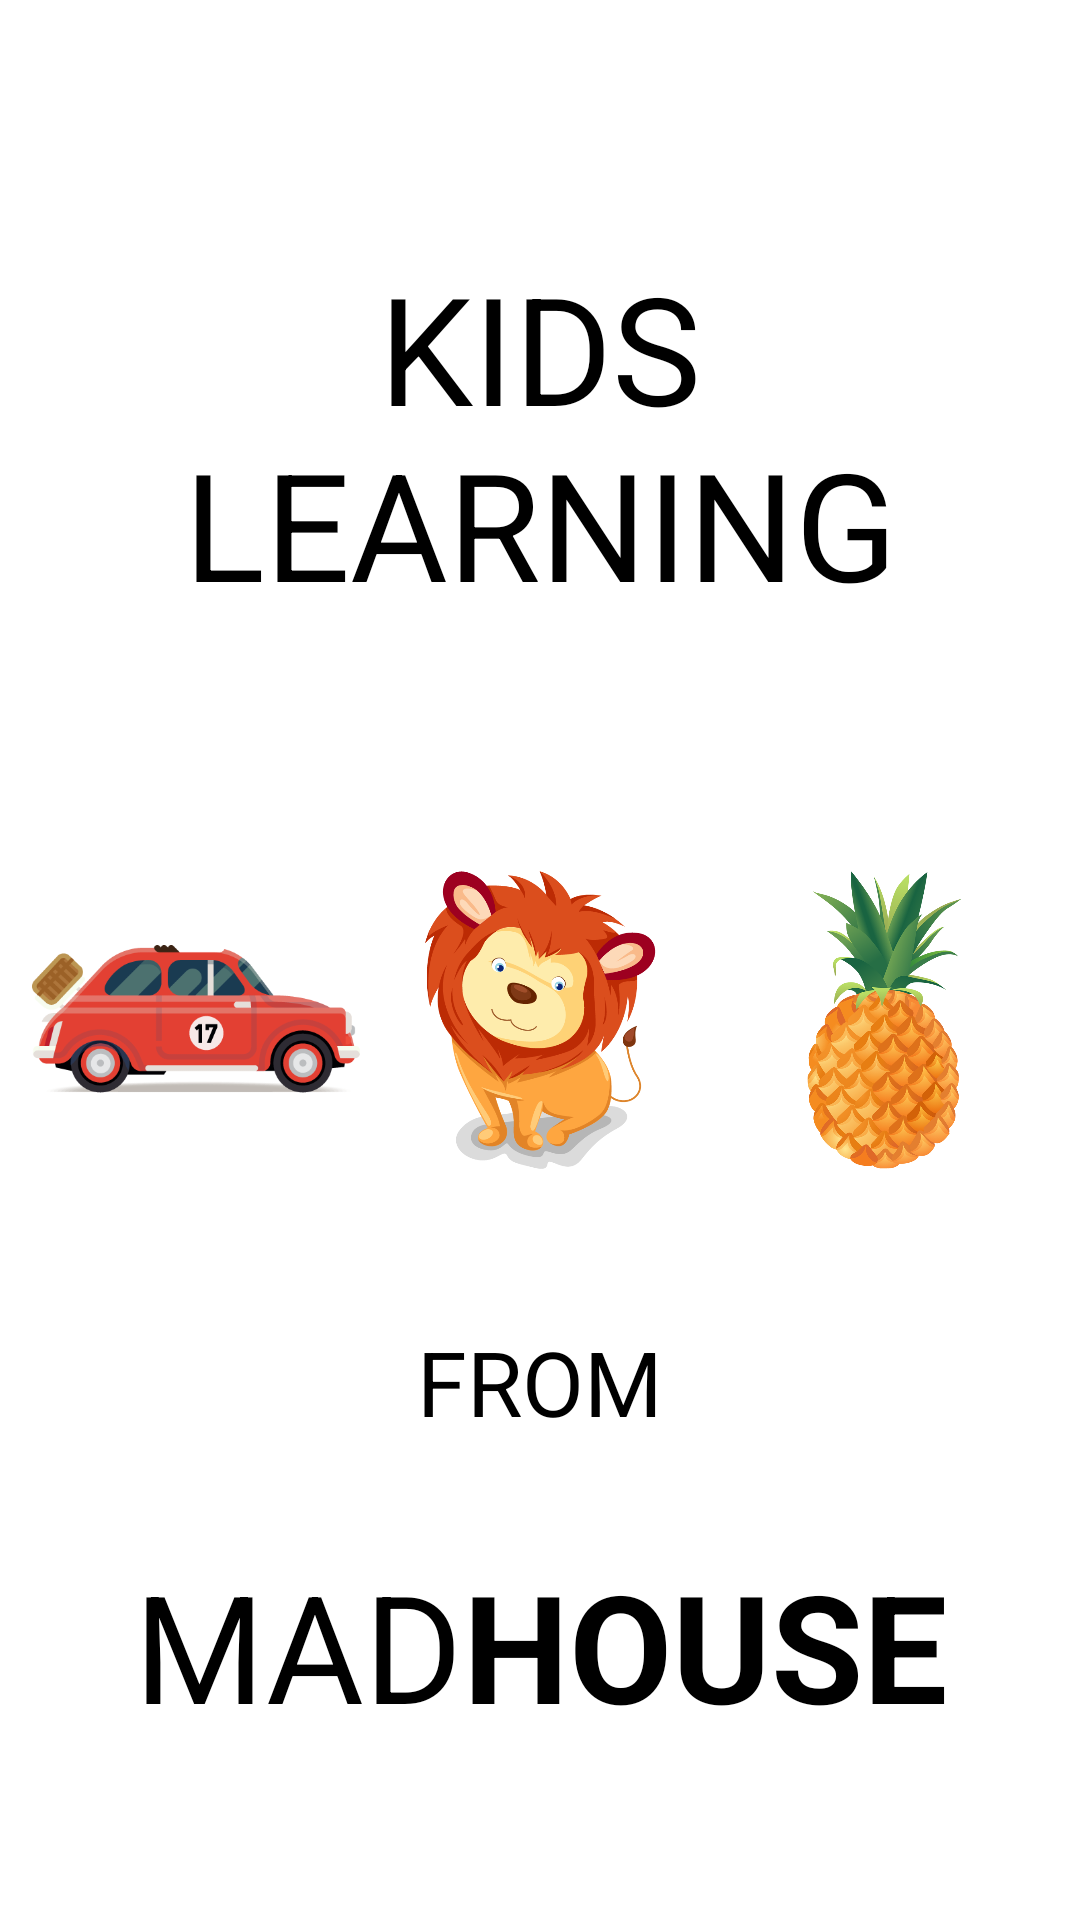

Screen size 1080px x 1920px. Icon name, then its center in pixels as (x=x, y=y):
car: (x=196, y=1019)
lion: (x=540, y=1020)
pine: (x=884, y=1020)
